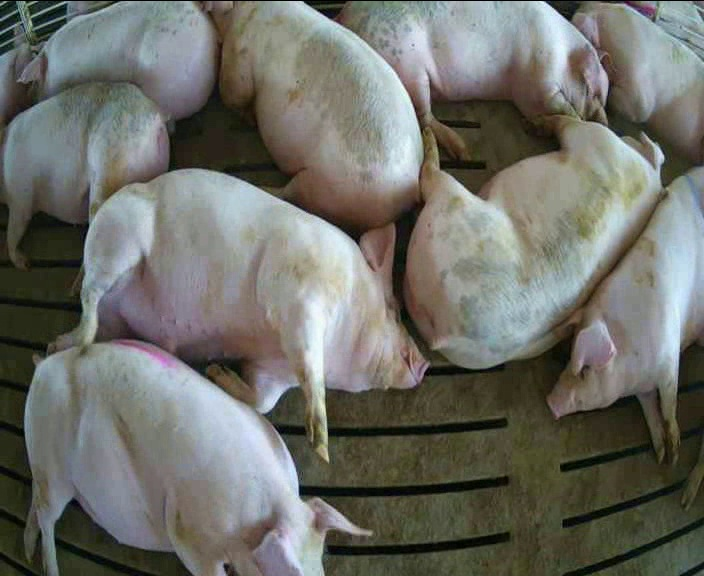pig: (48, 169, 427, 460), (25, 340, 369, 574), (404, 117, 665, 368), (211, 1, 422, 229), (547, 166, 703, 462), (337, 2, 615, 158), (21, 2, 217, 132), (572, 2, 703, 161)
